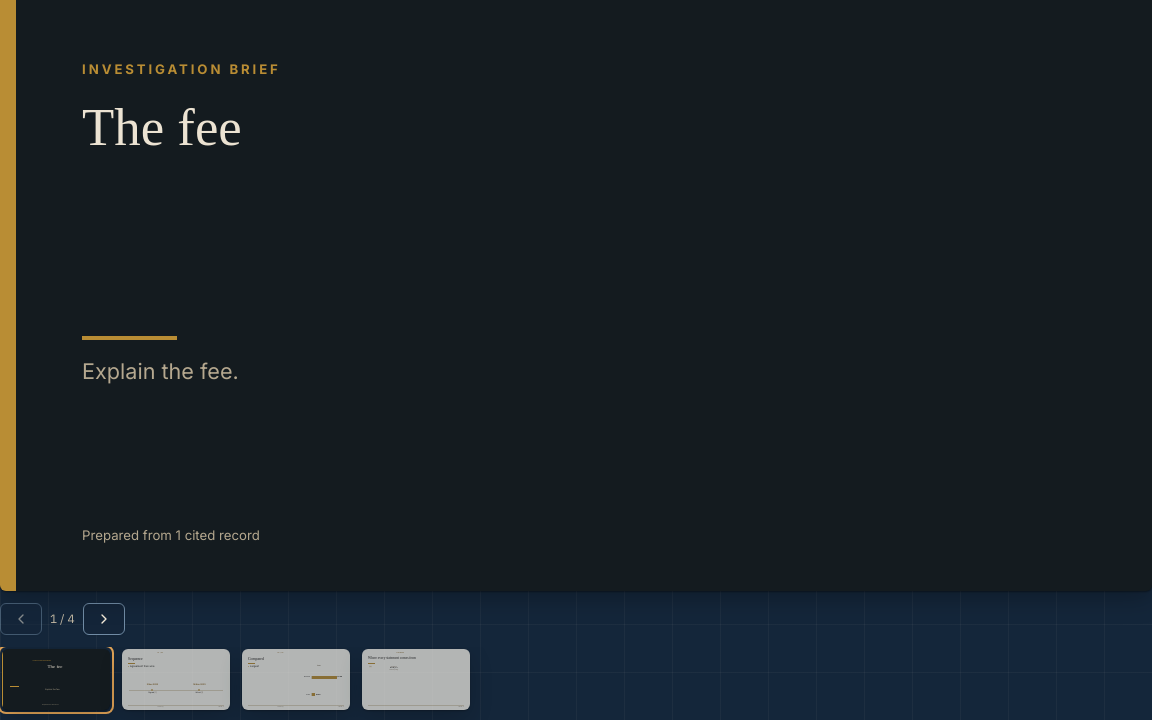
Test case: DraftPreview › renders timeline and bar visuals on slides with human dates and compact values
(page scrolled)
Click the tab with aria-label "Go to slide 2": (176, 679) [120,647,232,712]
(page scrolled)
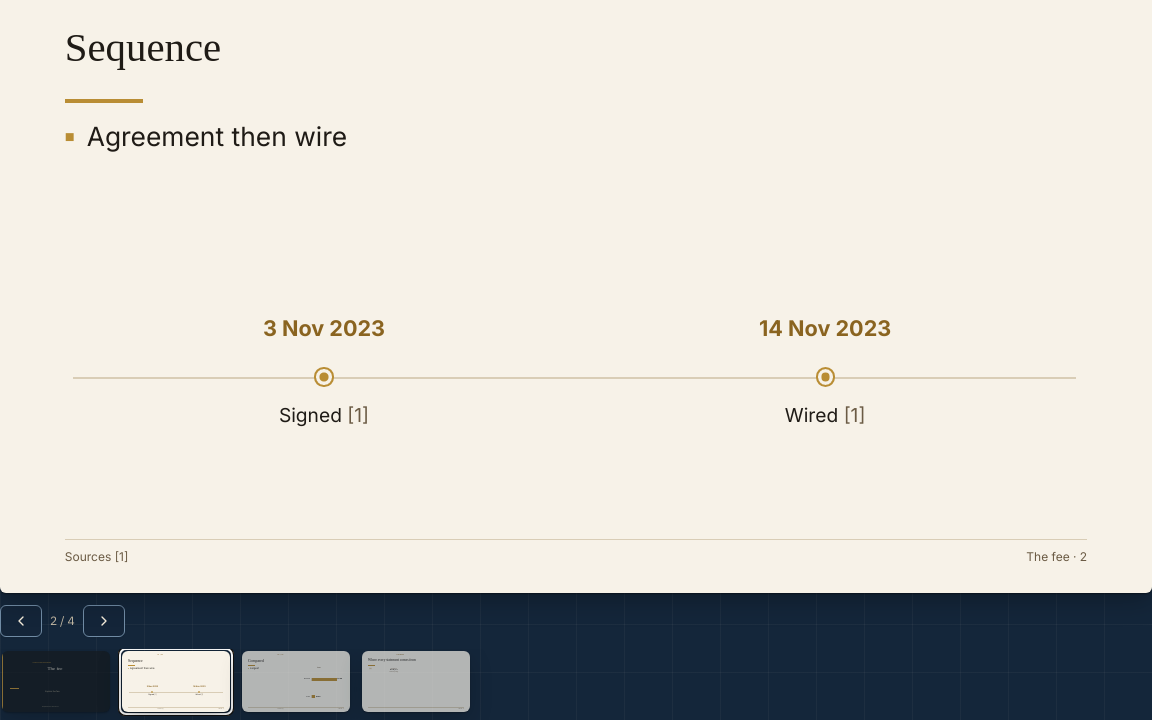
Now the text "3 Nov 2023" below "01 / 02" is shown, box [263,315,385,341]
Now the 1st text "14 Nov 2023" is shown, box [759,315,891,341]
Click the button named "Next slide": (104, 621) [83,605,125,637]
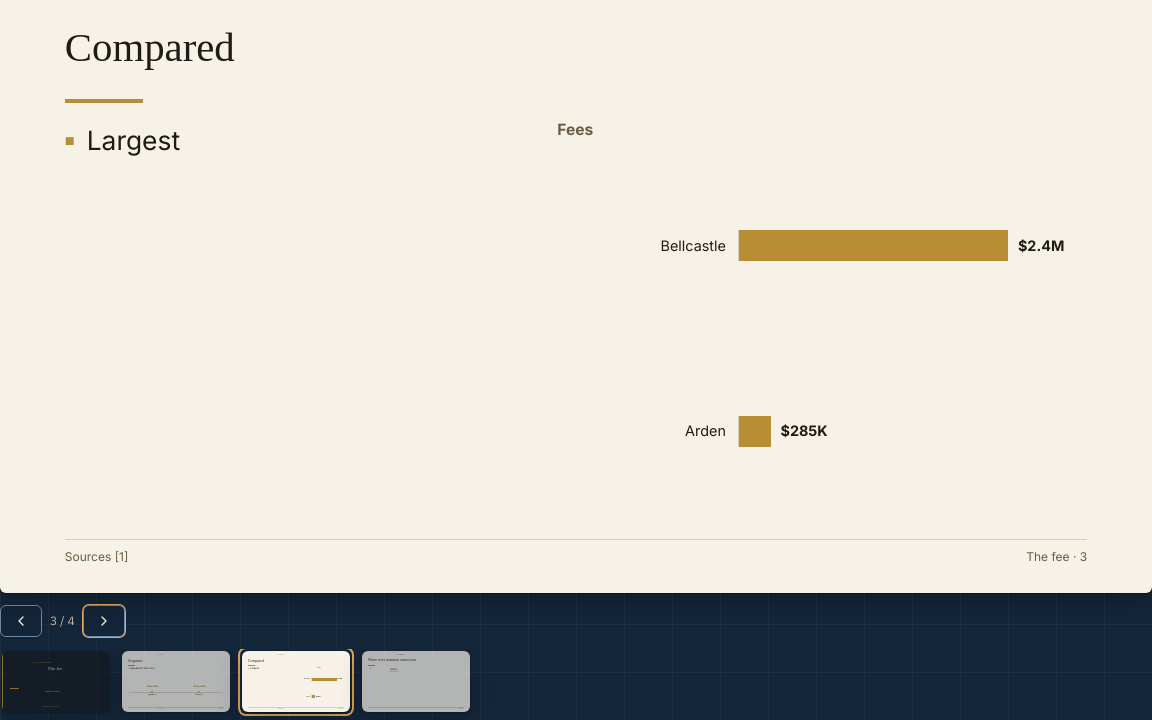
Now the text "$2.4M" in the row of "Bellcastle" is shown, box [1018,237,1064,254]
Now the text "$285K" next to "Arden" is shown, box [780,422,828,439]
